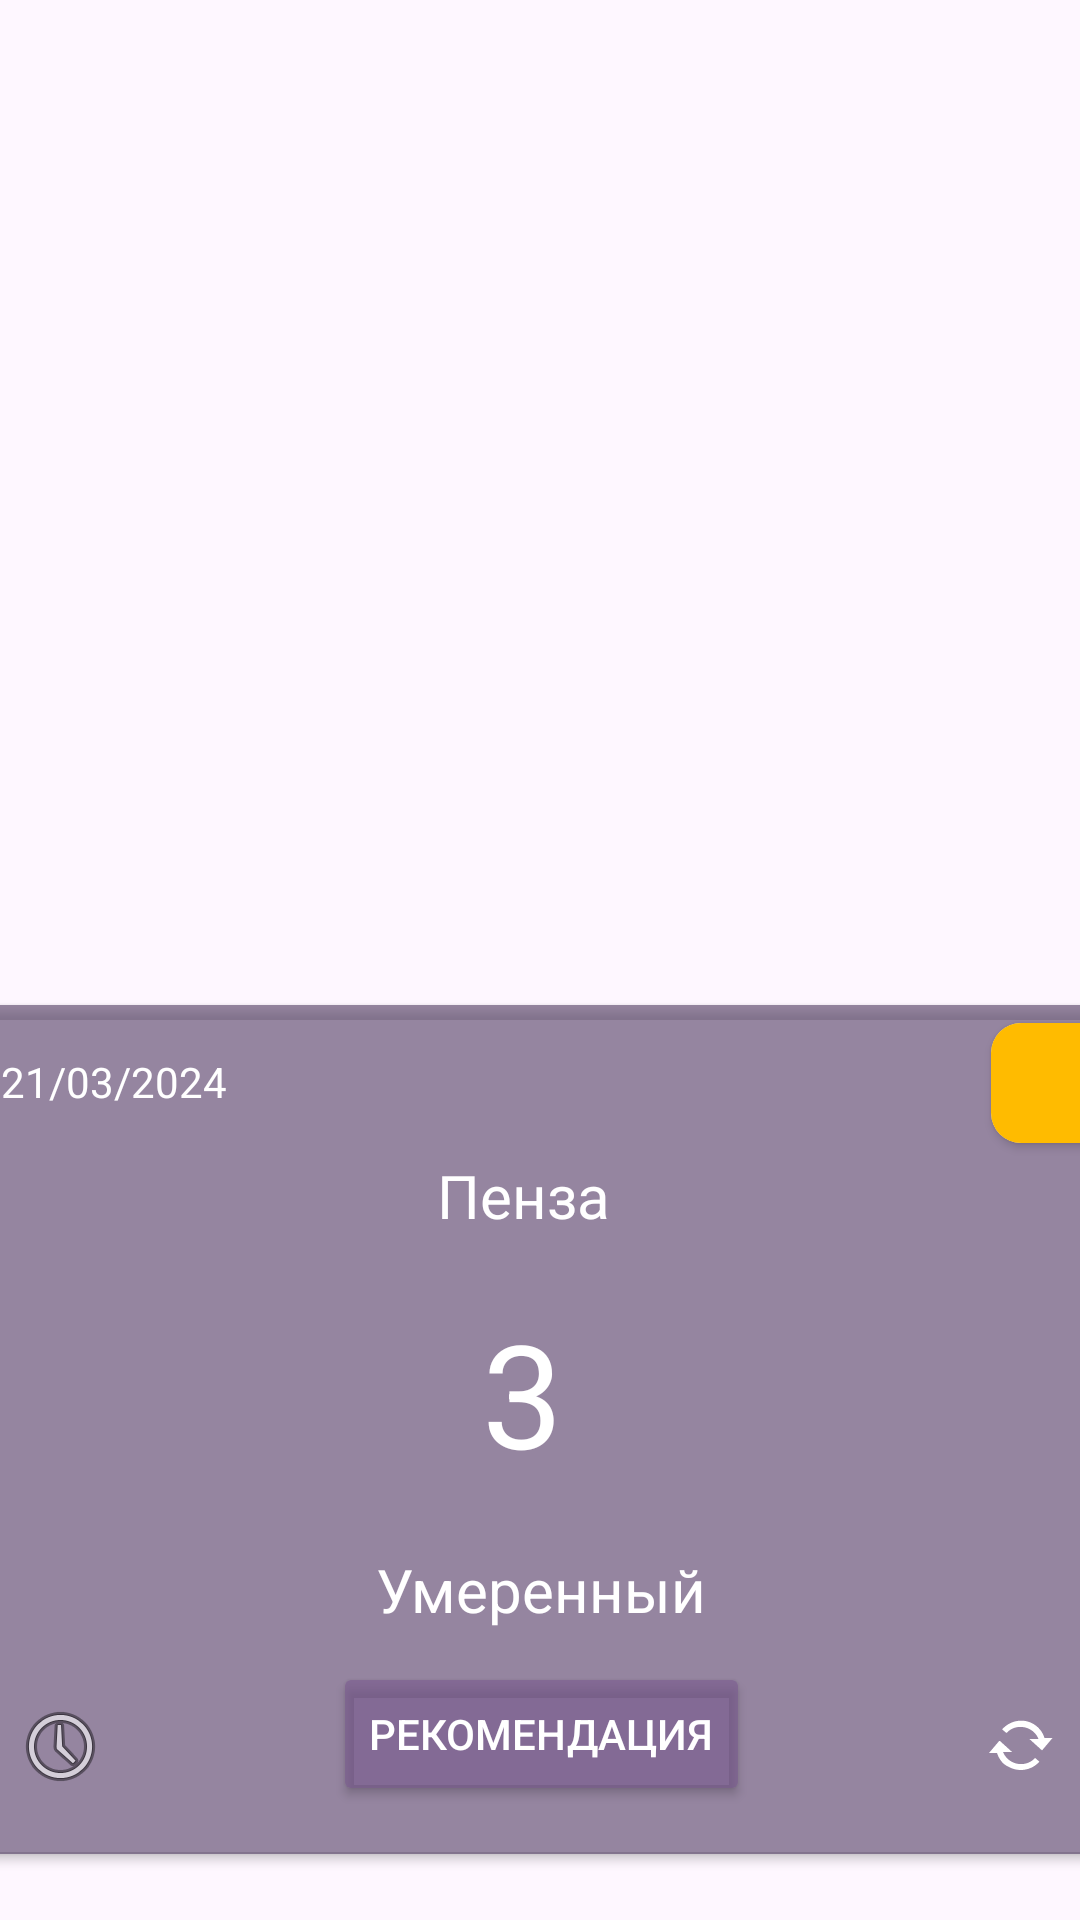

Screen size 1080*1920. Icon name, then its center in pixels as (x,y):
recent history: (60,1746)
sync: (1020,1745)
